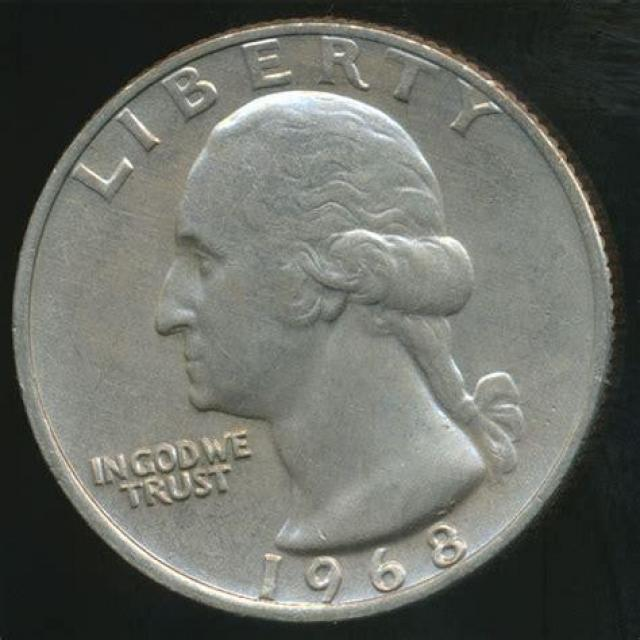Quarter: (12, 15, 620, 624)
